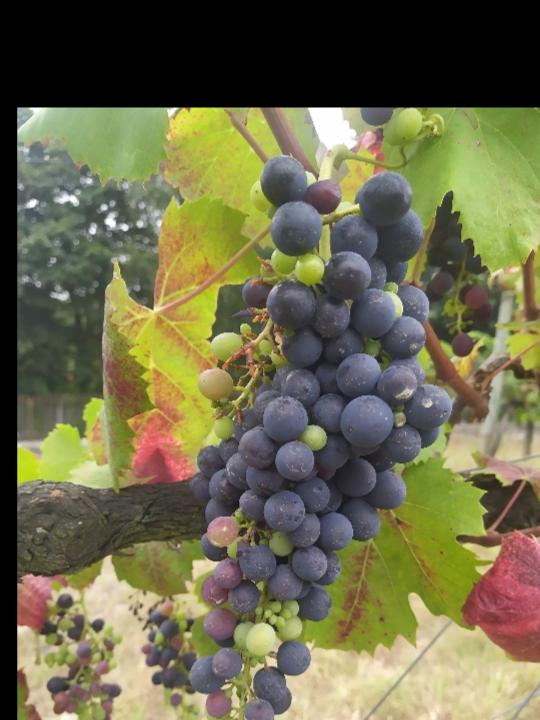grape: (197, 153, 453, 720), (35, 593, 123, 720), (127, 587, 208, 720)
